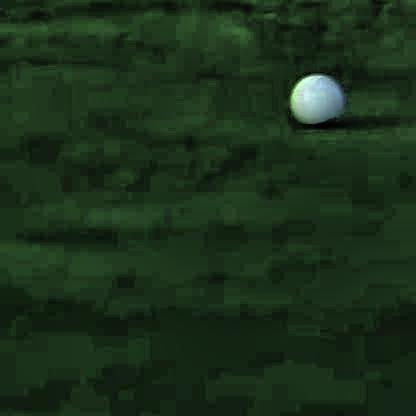golfball: (286, 71, 342, 127)
